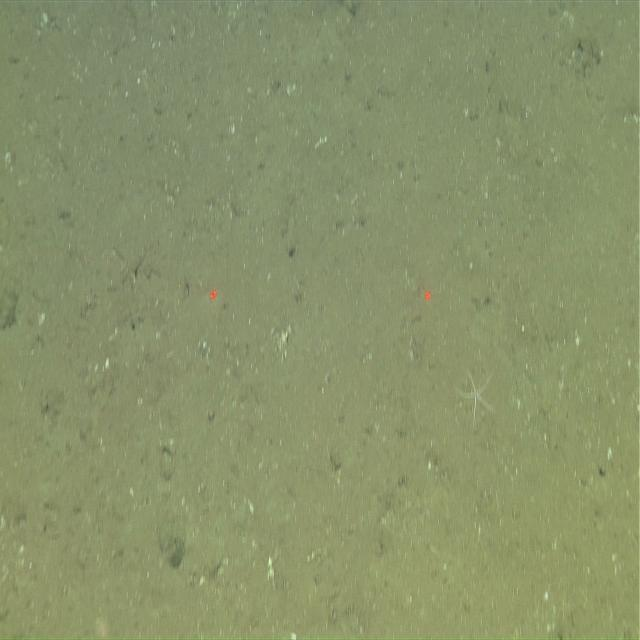Brittle Star: (455, 363, 498, 431)
